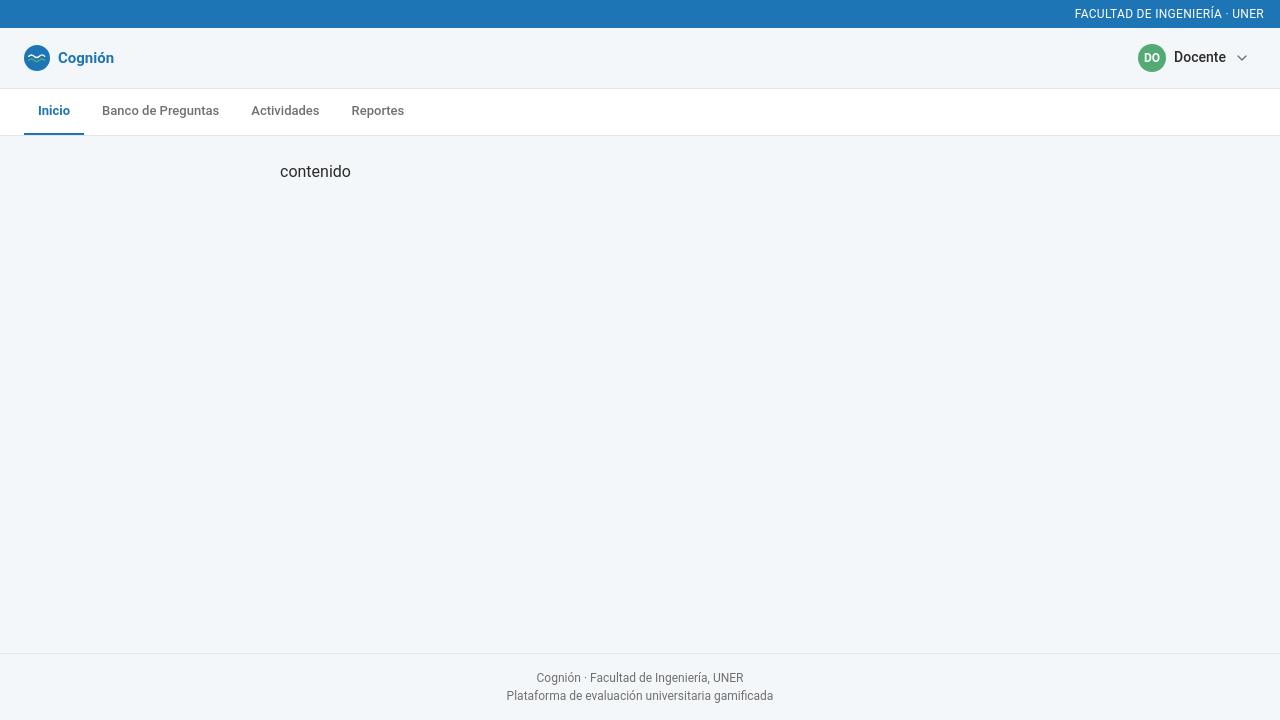
Test case: AppLayout (integración) › abre el menú de usuario desde el header y ofrece Cambiar contraseña y Cerrar sesión
The width and height of the screenshot is (1280, 720).
Click the button "DO Docente": (1194, 58) [1132,40,1256,76]
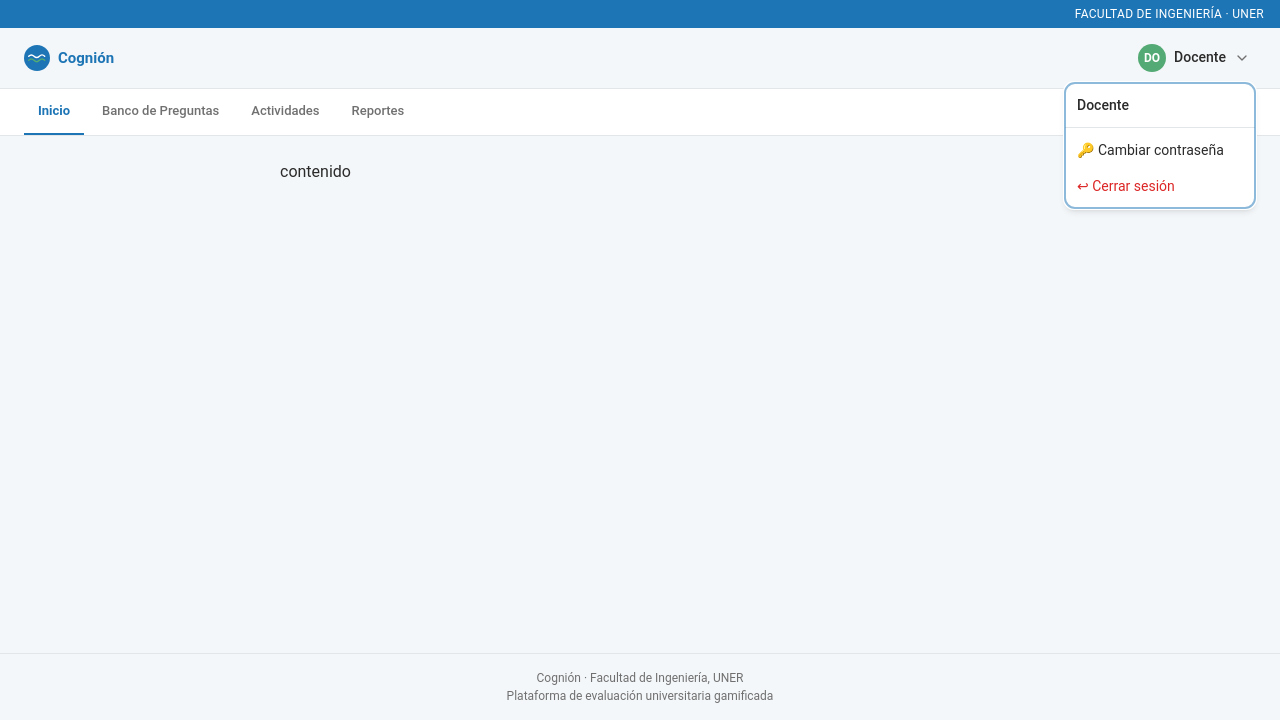
Check: the menu item "🔑 Cambiar contraseña" is shown, box [1077,142,1224,158]
Check: the menu item "↩ Cerrar sesión" is shown, box [1077,178,1175,194]
